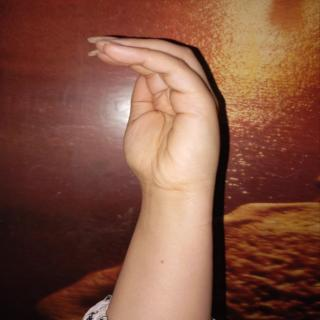HAA: (82, 27, 232, 206)
